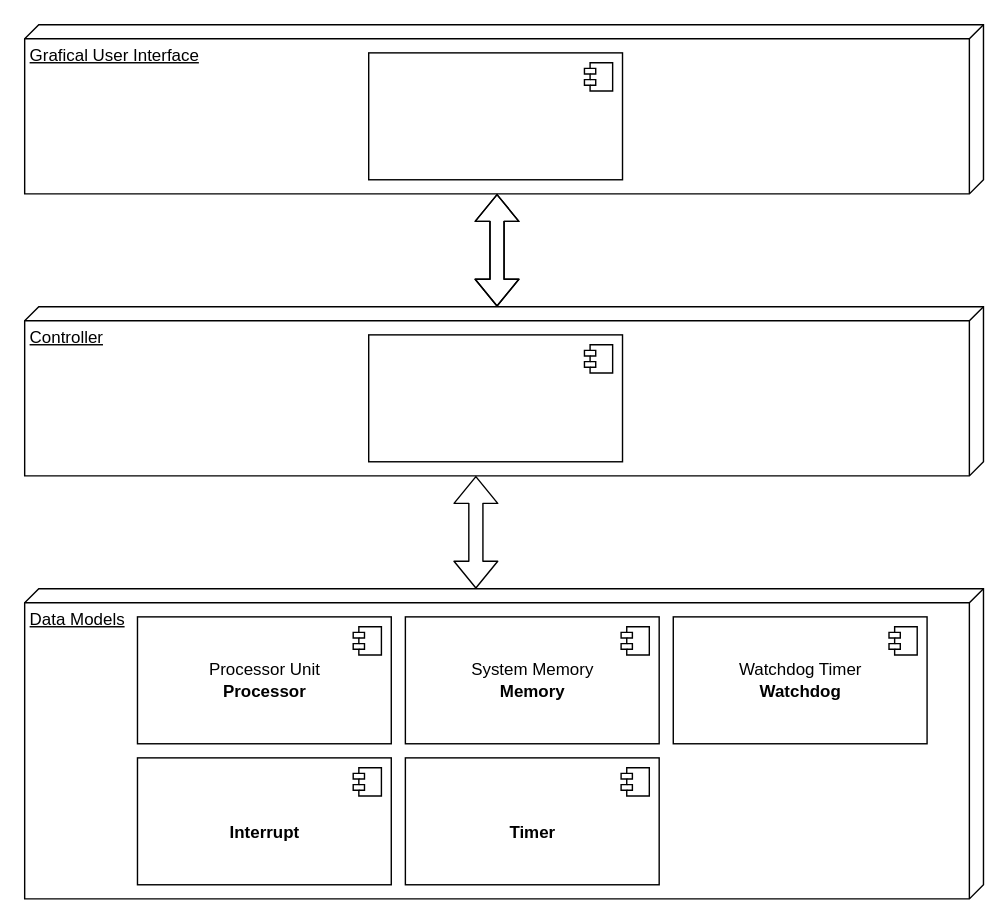
Image size: 1008x924. Some labels were removed from this diagram. The centre of each missing label's shape, as x and y in pixels:
"Main Controller Controller" belongs at (x=495, y=397).
"Main Window Simulator_Window" belongs at (x=495, y=115).
